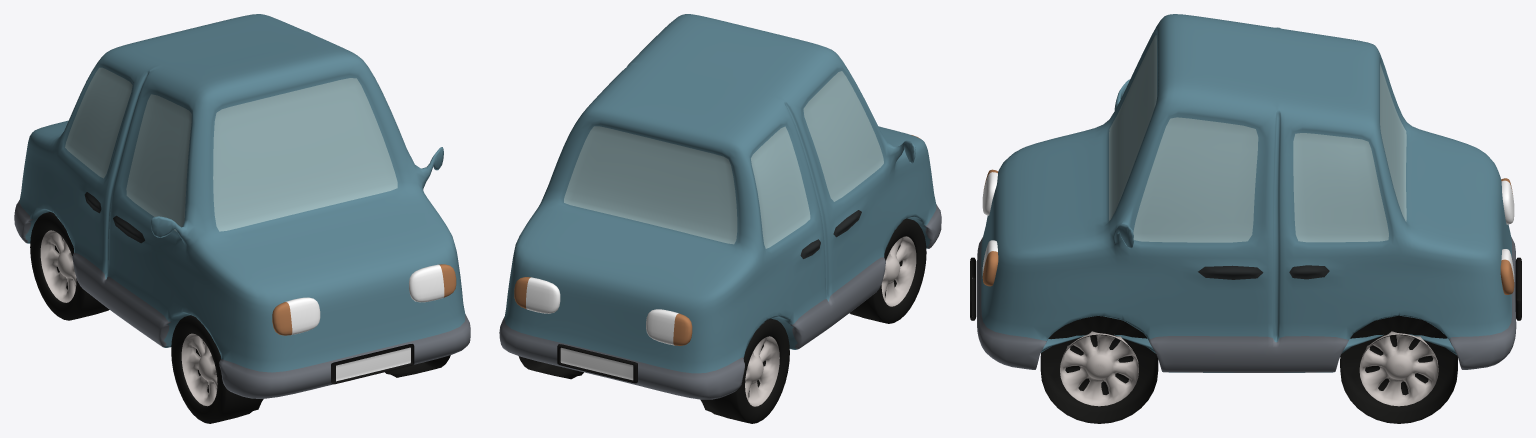
Rendered from car2-2 (2).fbx.
3 views of the same model, side by side, from view 1: azimuth 30°, elevation 25°; view 2: azimuth 150°, elevation 25°; view 3: azimuth 270°, elevation 25° (orthographic). The views are drawn at different scales.
Parts seen in each view (by area): view 1: Cube, Cylinder.006, Cube.004, Cube.002; view 2: Cube, Cylinder.006, Cube.004, Cube.002; view 3: Cube, Cylinder.006, Cube.004, Cube.002.
Part boxes in pixels (x1=…): Cube: x1=14, y1=14, x2=470, y2=398; Cylinder.006: x1=30, y1=212, x2=450, y2=423; Cube.004: x1=272, y1=264, x2=456, y2=335; Cube.002: x1=331, y1=344, x2=414, y2=384; Cube: x1=499, y1=14, x2=941, y2=399; Cylinder.006: x1=518, y1=218, x2=926, y2=423; Cube.004: x1=514, y1=133, x2=920, y2=345; Cube.002: x1=557, y1=344, x2=637, y2=383; Cube: x1=977, y1=14, x2=1516, y2=372; Cylinder.006: x1=1040, y1=315, x2=1457, y2=423; Cube.004: x1=982, y1=169, x2=1514, y2=294; Cube.002: x1=970, y1=257, x2=1521, y2=320.
Size of the model in its own units: 479 by 466 by 737.
